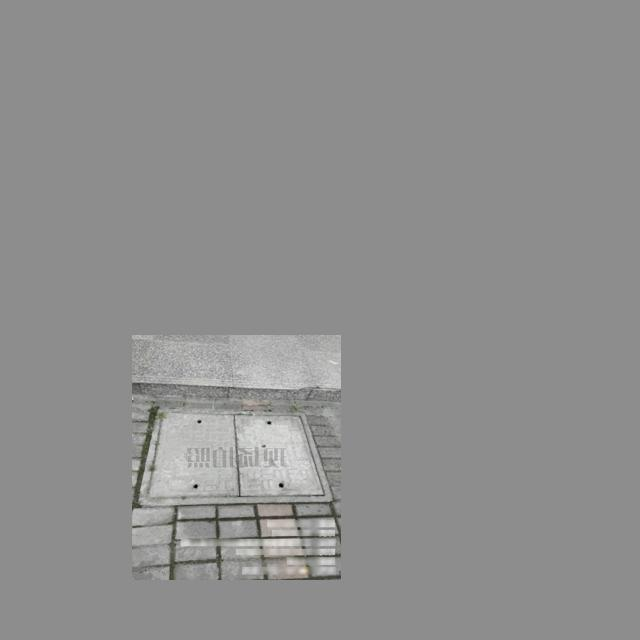good: (146, 410, 332, 500)
